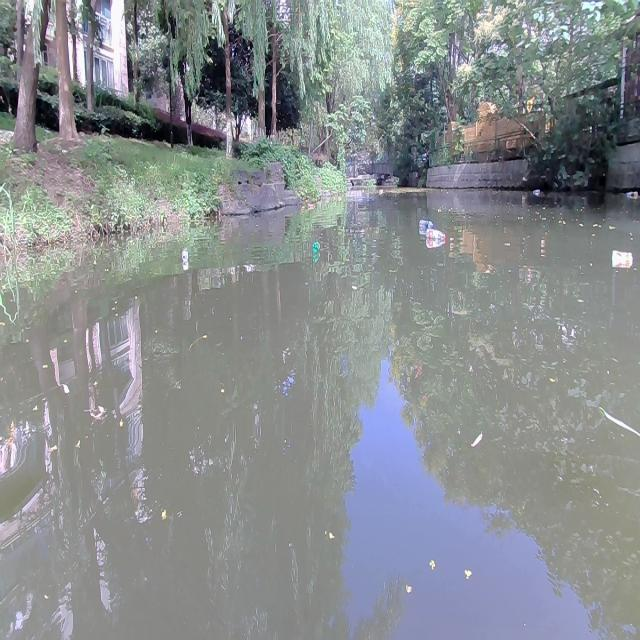bottle: (607, 247, 633, 267), (426, 231, 446, 247), (417, 218, 433, 232), (624, 188, 637, 202), (179, 246, 188, 262), (311, 242, 319, 252), (306, 200, 316, 207), (532, 188, 540, 194)
